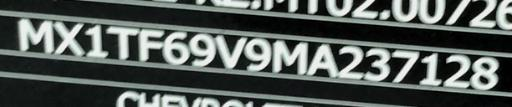letter: (11, 15, 55, 54), (270, 38, 308, 77), (212, 33, 248, 68), (106, 22, 138, 61), (306, 41, 338, 80), (52, 20, 84, 57), (390, 47, 420, 86), (470, 56, 502, 91), (161, 28, 189, 67), (242, 34, 270, 73), (441, 53, 471, 88), (187, 32, 215, 69), (336, 45, 364, 80), (363, 47, 391, 82), (138, 28, 164, 63), (84, 22, 108, 59), (421, 50, 441, 87)
